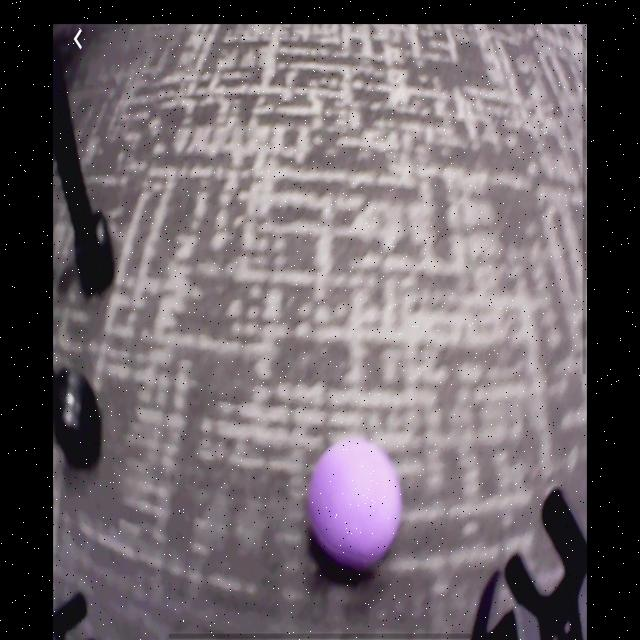ball: (309, 436, 402, 572)
